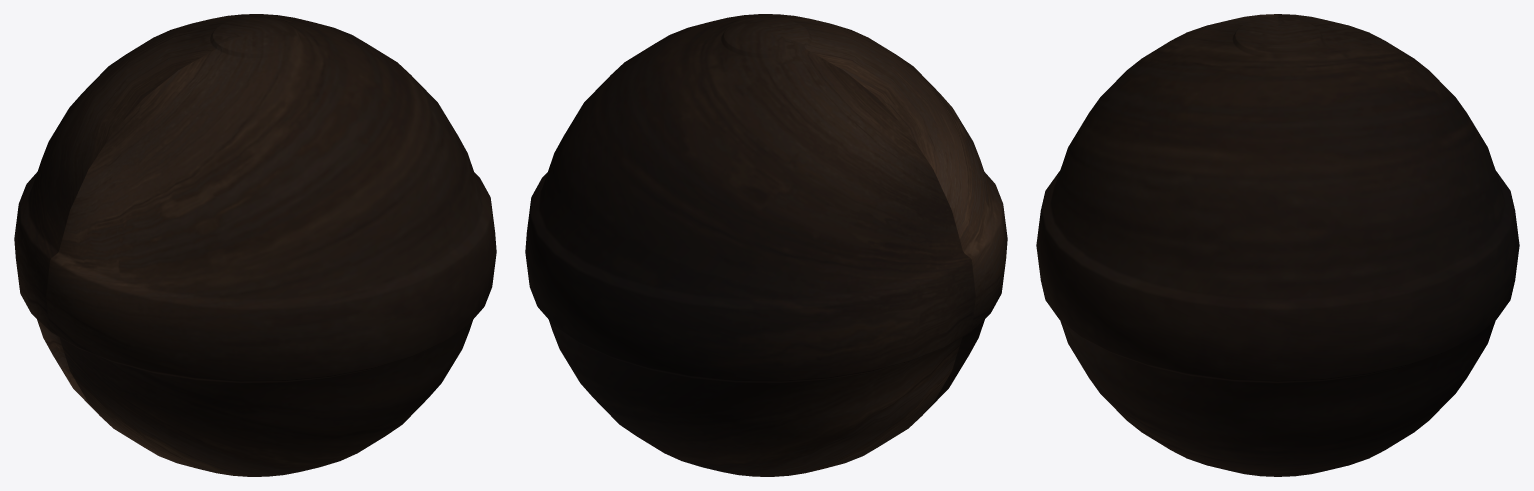
The model's file is firebomb.glb.
The picture shows the model from 3 angles, left to right: view 1: azimuth 30°, elevation 25°; view 2: azimuth 150°, elevation 25°; view 3: azimuth 270°, elevation 25°; orthographic projection.
Visible parts, largest first — view 1: Sphere; view 2: Sphere; view 3: Sphere.
Boxes of the visible parts, <box> form: Sphere: <box>14,14,496,476</box>; Sphere: <box>525,14,1007,476</box>; Sphere: <box>1036,14,1519,476</box>.
Bounding box in the file's own units: 0.1622 × 0.1587 × 0.1622.
Materials: 1 (1 with a texture image).
